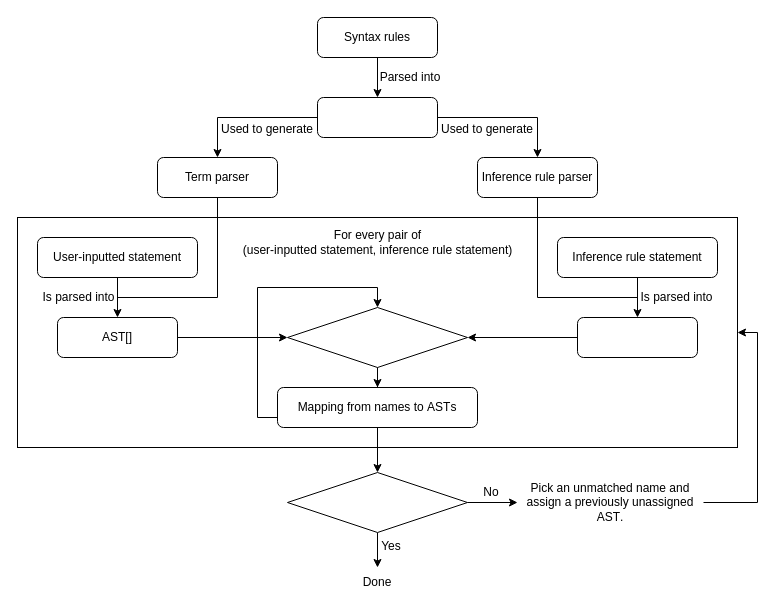
Image size: 783x615. Some labels were removed from this diagram. The centre of each missing label's shape, as x and y in pixels:
"All names matched?" goes at [377,502].
"Matchable[]" goes at [637,337].
"Matching algorithm" goes at [377,337].
"Token[]" goes at [377,117].
